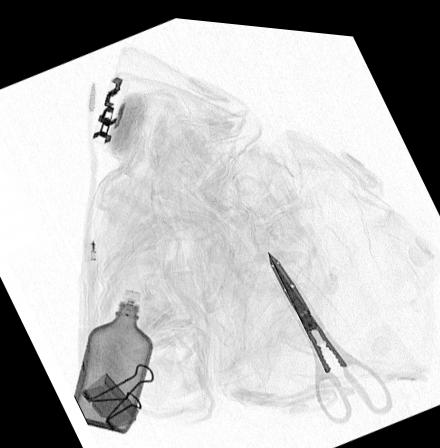Scissors: (264, 242, 396, 421)
